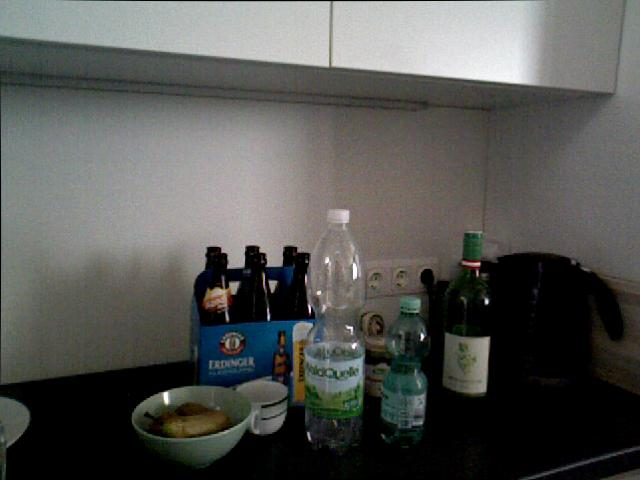bench: (303, 208, 366, 452), (441, 230, 492, 403), (379, 296, 429, 447), (242, 246, 276, 322), (207, 247, 232, 325), (293, 251, 315, 319), (275, 329, 292, 387), (284, 246, 297, 272)
bird: (131, 380, 255, 471)
giraffe: (355, 306, 386, 341)
handbag: (238, 378, 289, 438)
